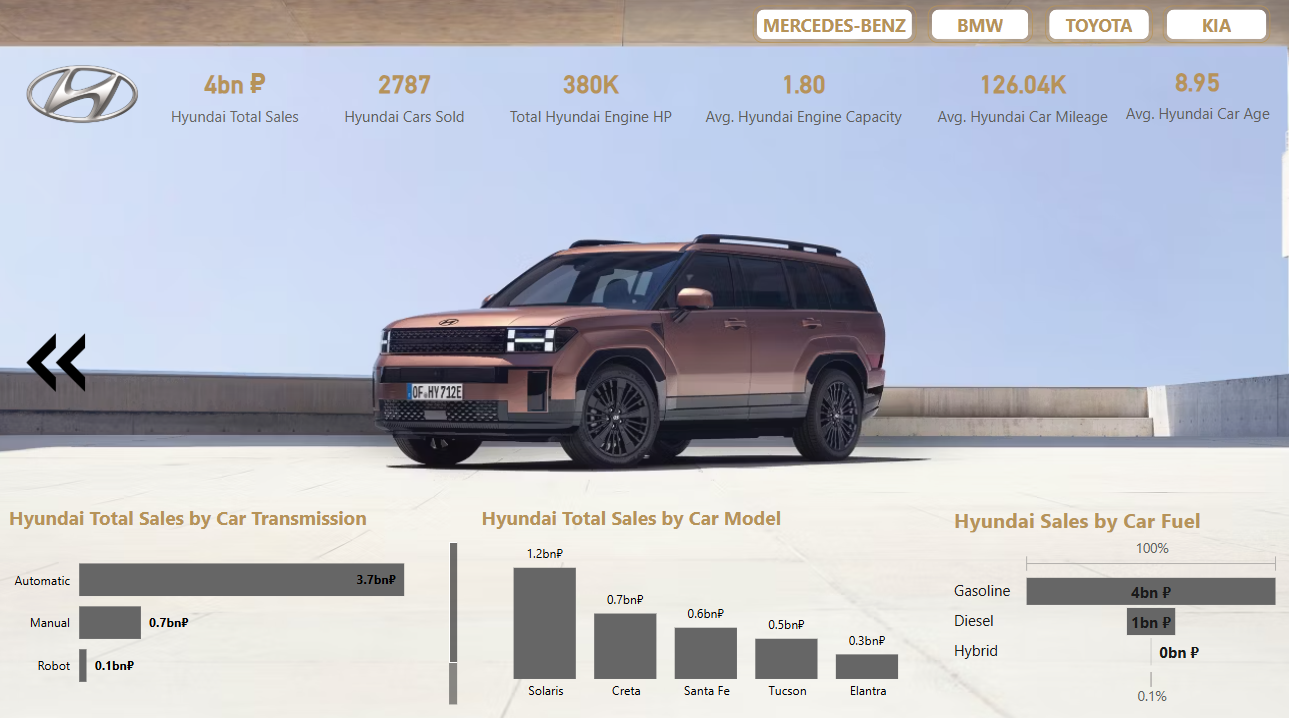

This screenshot's page, from the dashboard's own definition file:
{"tool":"powerbi","page":{"name":"HYUNDAI","canvas":[1280,720],"ordinal":4},"visuals":[{"type":"card","fields":{"Values":["Sum(car_data.Car Price)"]},"box":[163.5,63.6,146.8,71.4],"z":0},{"type":"card","fields":{"Values":["Sum(car_data.Car Engine HP)"]},"box":[496.3,63.6,178.4,71.4],"z":1000},{"type":"card","fields":{"Values":["car_data.Avg. Car Engine Capacity"]},"box":[692.2,63.6,205.8,71.4],"z":2000},{"type":"card","fields":{"Values":["car_data.Average Car Age"]},"box":[1104.6,59,155.1,75.5],"z":3000},{"type":"barChart","fields":{"Category":["car_data.Car Transmission"],"Y":["Sum(car_data.Car Price)"]},"box":[9.6,502.2,450.1,201.7],"z":4000},{"type":"columnChart","fields":{"Category":["car_data.Car Model"],"Y":["Sum(car_data.Car Price)"]},"box":[473.4,502.2,452.8,201.7],"z":5000},{"type":"funnel","fields":{"Category":["car_data.Car Fuel"],"Y":["Sum(car_data.Car Price)"]},"box":[937.2,503.6,330.7,201.7],"z":6000},{"type":"card","fields":{"Values":["car_data.Avg. Car Mileage"]},"box":[915.6,58.8,189.4,81],"z":7000},{"type":"card","fields":{"Values":["CountNonNull(car_data.Car Brand)"]},"box":[327.9,63.6,150.9,71.4],"z":8000},{"type":"shape","box":[916.6,12.3,102.9,37],"z":9000},{"type":"shape","box":[1031.9,12.3,105.7,37],"z":10000},{"type":"shape","box":[1147.2,12.3,105.7,37],"z":11000},{"type":"shape","box":[745.1,12.3,160.5,37],"z":12000},{"type":"image","box":[27,325.2,67.5,74.8],"z":13000},{"type":"image","box":[27,63.7,119,71.2],"z":14000}]}

Visuals, with their boxes in screenshot pixels (x1, y1, x2, y2), scaled from the page's 1280x720 canvas onto the 1289x718 screenshot:
card - Sum(car_data.Car Price): bbox(165, 63, 312, 135)
card - Sum(car_data.Car Engine HP): bbox(500, 63, 679, 135)
card - car_data.Avg. Car Engine Capacity: bbox(697, 63, 904, 135)
card - car_data.Average Car Age: bbox(1112, 59, 1269, 134)
barChart - car_data.Car Transmission x Sum(car_data.Car Price): bbox(10, 501, 463, 702)
columnChart - car_data.Car Model x Sum(car_data.Car Price): bbox(477, 501, 933, 702)
funnel - car_data.Car Fuel x Sum(car_data.Car Price): bbox(944, 502, 1277, 703)
card - car_data.Avg. Car Mileage: bbox(922, 59, 1113, 139)
card - CountNonNull(car_data.Car Brand): bbox(330, 63, 482, 135)
shape: bbox(923, 12, 1027, 49)
shape: bbox(1039, 12, 1146, 49)
shape: bbox(1155, 12, 1262, 49)
shape: bbox(750, 12, 912, 49)
image: bbox(27, 324, 95, 399)
image: bbox(27, 64, 147, 135)
